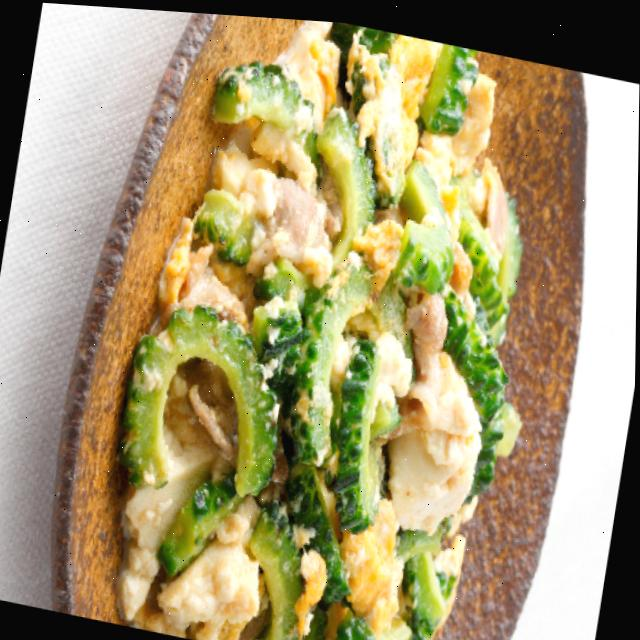熟制海鲜: (44, 3, 619, 640)
